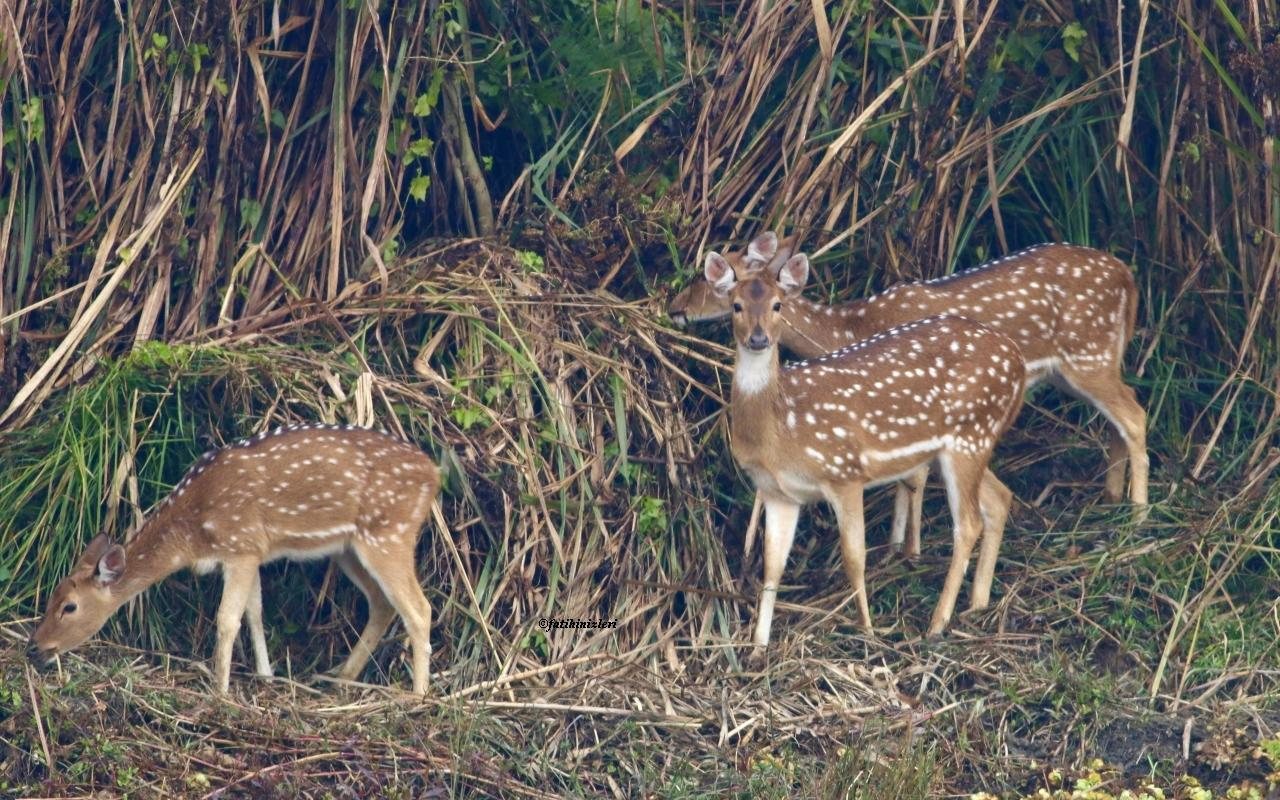Deer: (707, 252, 1026, 646), (32, 424, 438, 695), (778, 244, 1148, 511)
